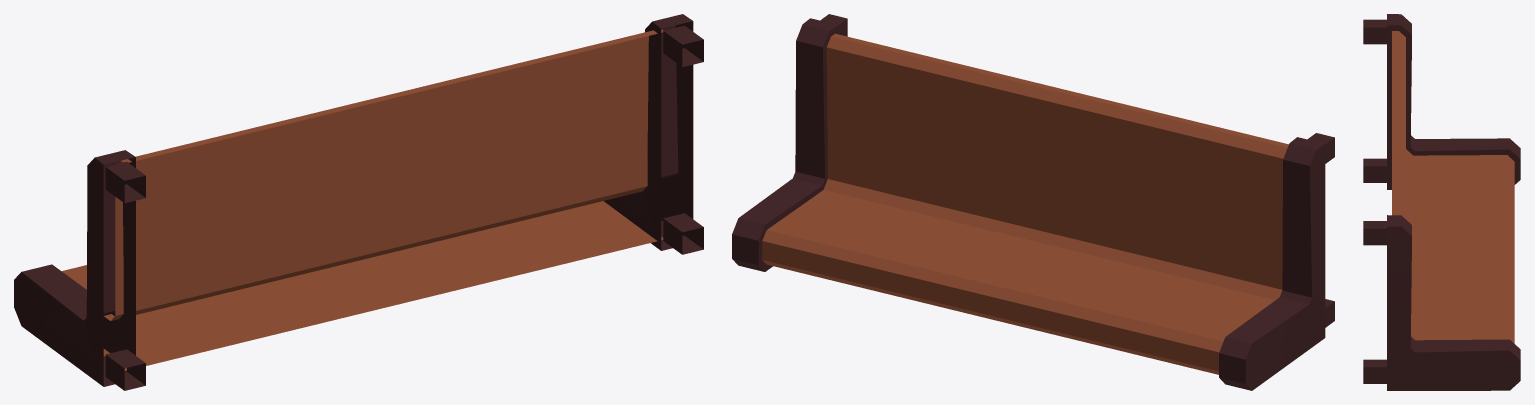
File: Bench 02.FBX
The picture shows the model from 3 angles, left to right: view 1: azimuth 30°, elevation 25°; view 2: azimuth 150°, elevation 25°; view 3: azimuth 270°, elevation 25°; orthographic projection. The views are drawn at different scales.
Parts seen in each view (by area): view 1: Bench 02; view 2: Bench 02; view 3: Bench 02.
Part boxes in pixels (x1,y1,x2,y2): Bench 02: (14,14,703,390); Bench 02: (732,14,1334,390); Bench 02: (1363,14,1520,390).
Bounding box in the file's own units: 238 × 85.61 × 74.18.
